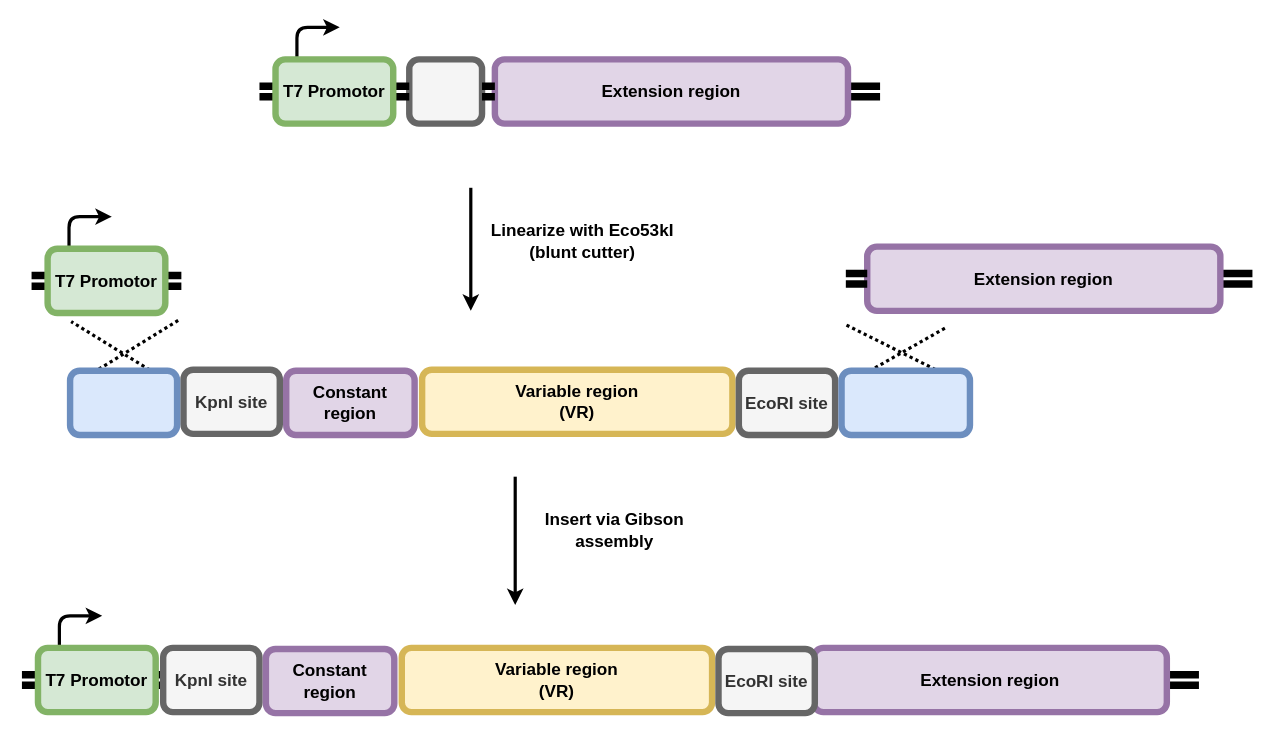
The diagram is 1274 pixels wide and 735 high, and some of its shapes have lost their labels. The shapes that lost their labels are listed below. From the top down, each one's centre as x and y in pixels, then its label:
At point (445, 91): "Eco53kI site".
At point (123, 402): "5' homology arm".
At point (905, 402): "3' homology arm".
